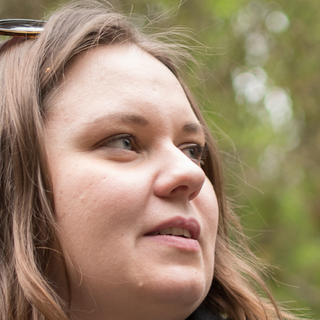eye: (92, 130, 145, 157), (176, 140, 207, 164)
